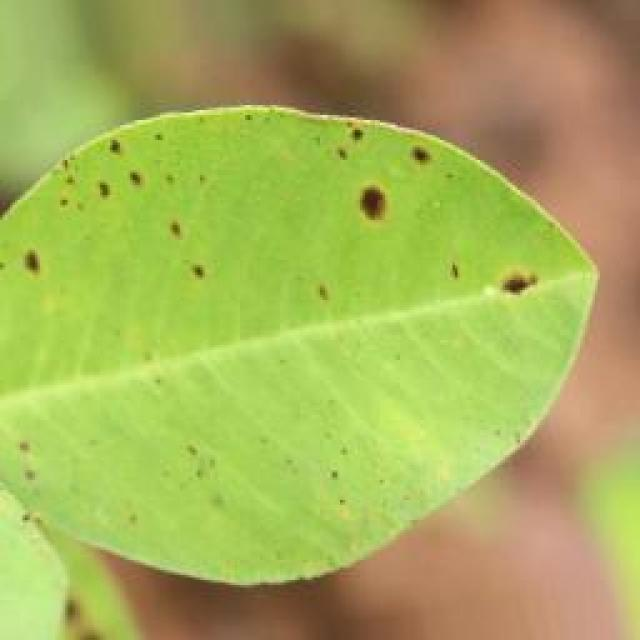Yellowish: (0, 82, 549, 398)
